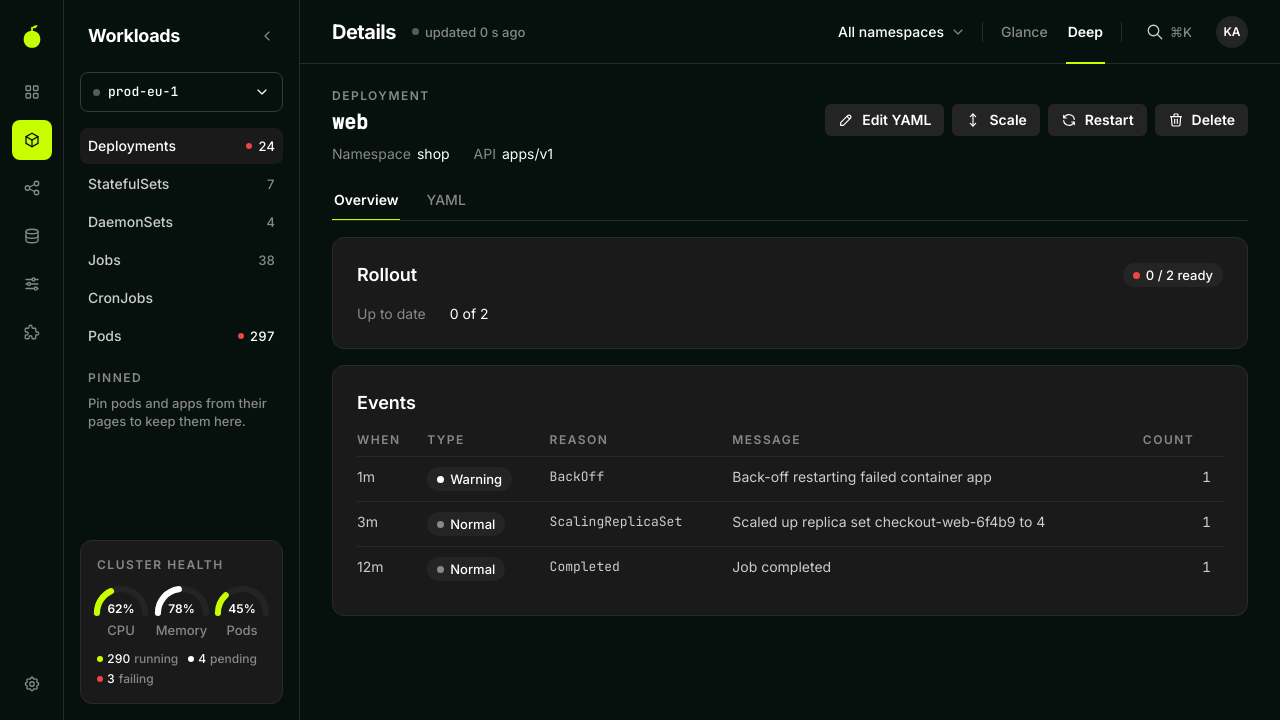
Test: resource actions › scales with the CSRF token and says so
The image size is (1280, 720).
Click the button "Scale" at [996, 120], box x1=952 y1=104 x2=1040 y2=136
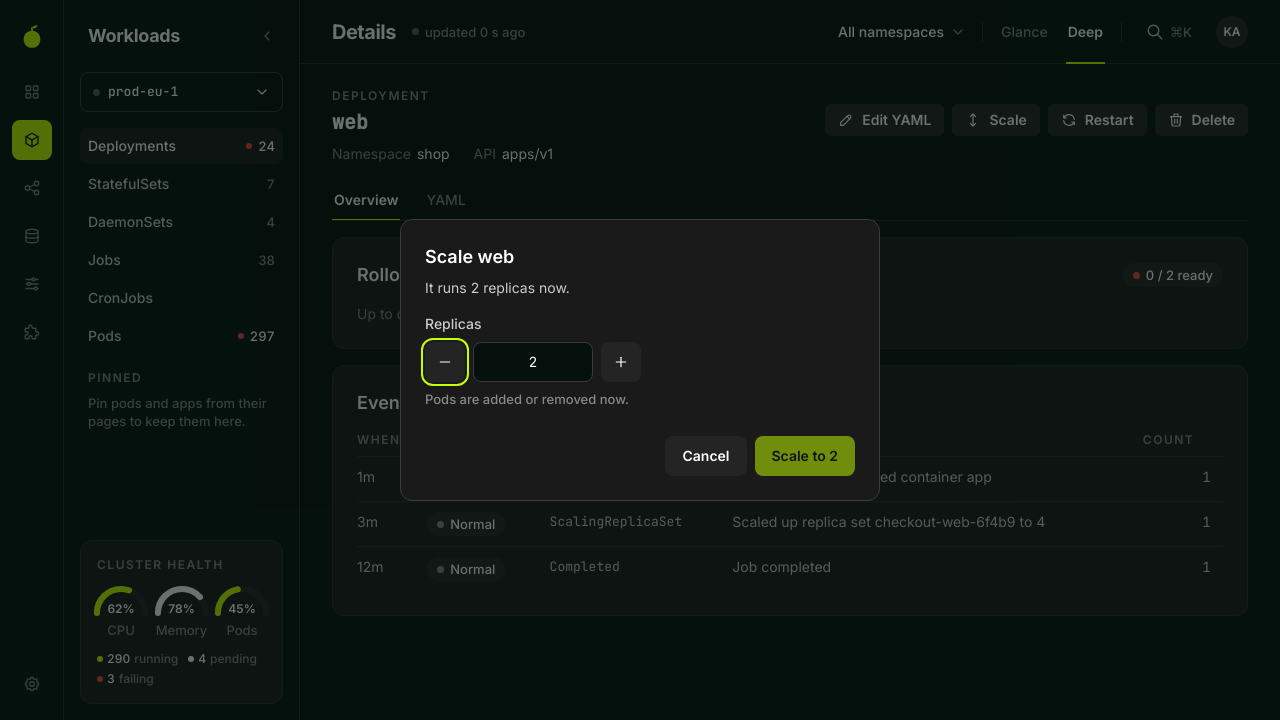
Now the text "It runs 2 replicas now." is shown, box x1=425 y1=279 x2=570 y2=296
Click the button named "One more" at [621, 362], box x1=601 y1=342 x2=641 y2=382
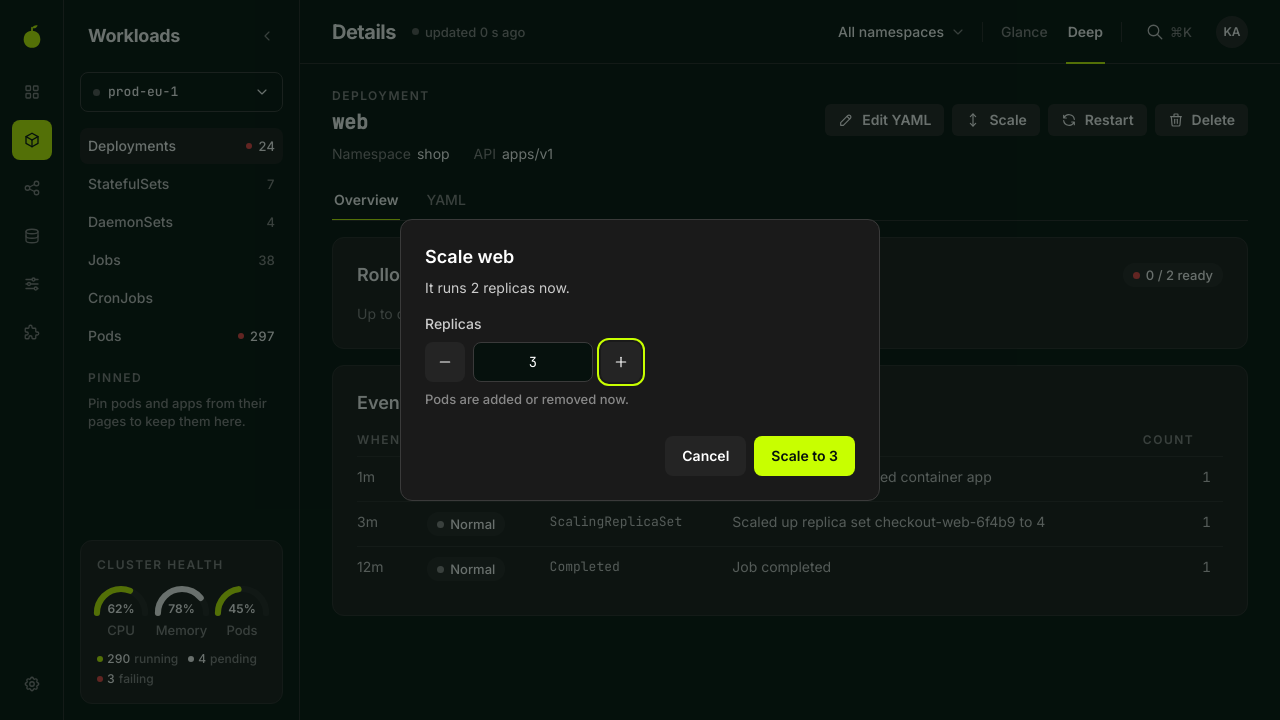
Click the button "Scale to 3" at [805, 456], box x1=754 y1=436 x2=855 y2=476
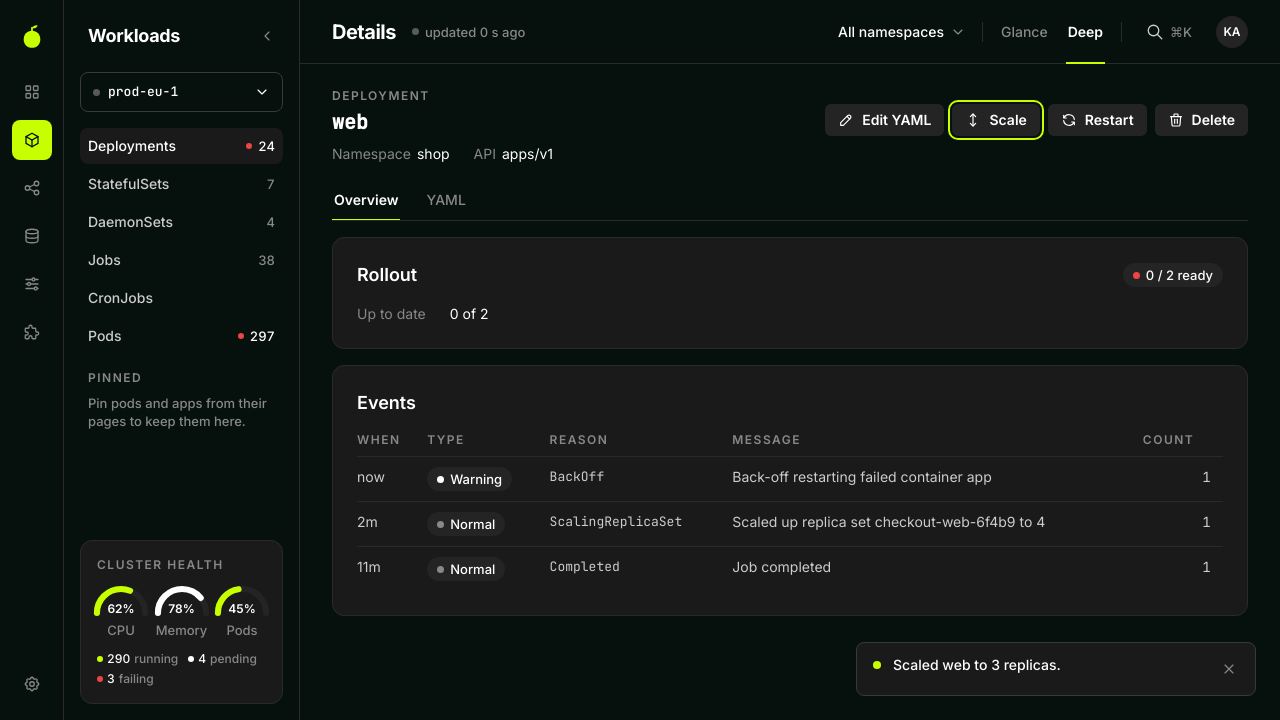
Now the text "Scaled web to 3 replicas." is shown, box x1=893 y1=656 x2=1061 y2=673
